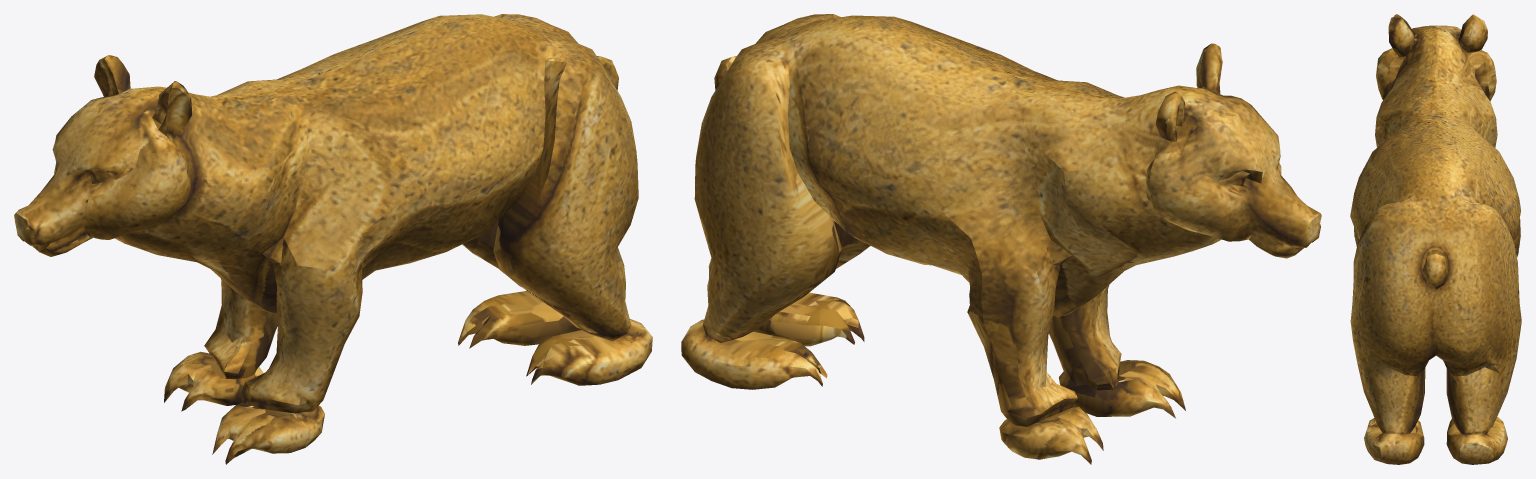
Rendered from item_statuet2.glb.
3 views of the same model, side by side, from view 1: azimuth 30°, elevation 25°; view 2: azimuth 150°, elevation 25°; view 3: azimuth 270°, elevation 25° (orthographic). The views are drawn at different scales.
Parts seen in each view (by area): view 1: sculpture_statuet2; view 2: sculpture_statuet2; view 3: sculpture_statuet2.
Part boxes in pixels (box(x1,y1,x2,y2)): sculpture_statuet2: box(14, 14, 652, 464); sculpture_statuet2: box(681, 14, 1321, 464); sculpture_statuet2: box(1350, 14, 1521, 464).
Size of the model in its own units: 1 by 0.6302 by 0.3398.
1 material, 1 textured.
